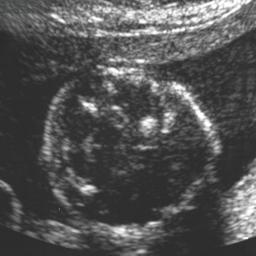abnormal: (46, 68, 224, 244)
